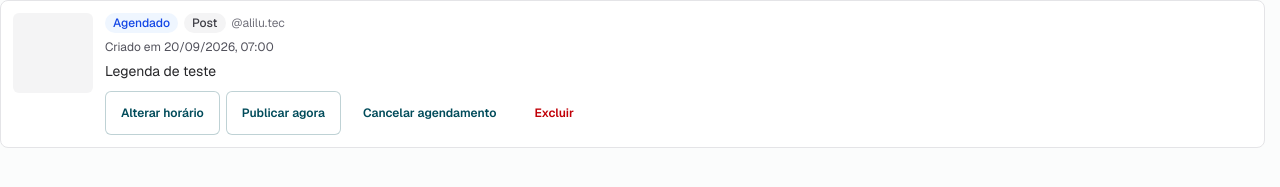
it: CalendarPostCard › mostra a mensagem de erro quando a ação falha
The width and height of the screenshot is (1280, 187).
Click the button "Publicar agora" at (283, 113), box [226,91,341,135]
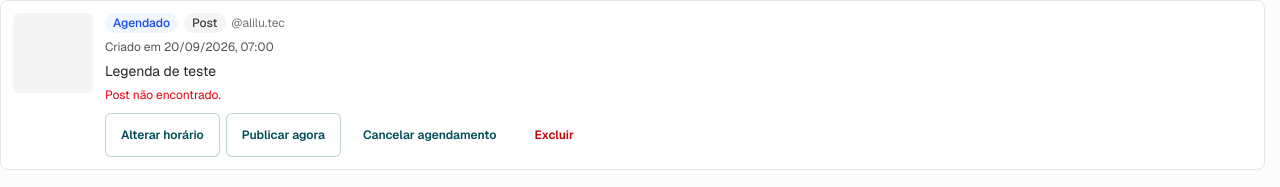
expect the message reads "Post não encontrado.": met, box [105,87,221,103]
